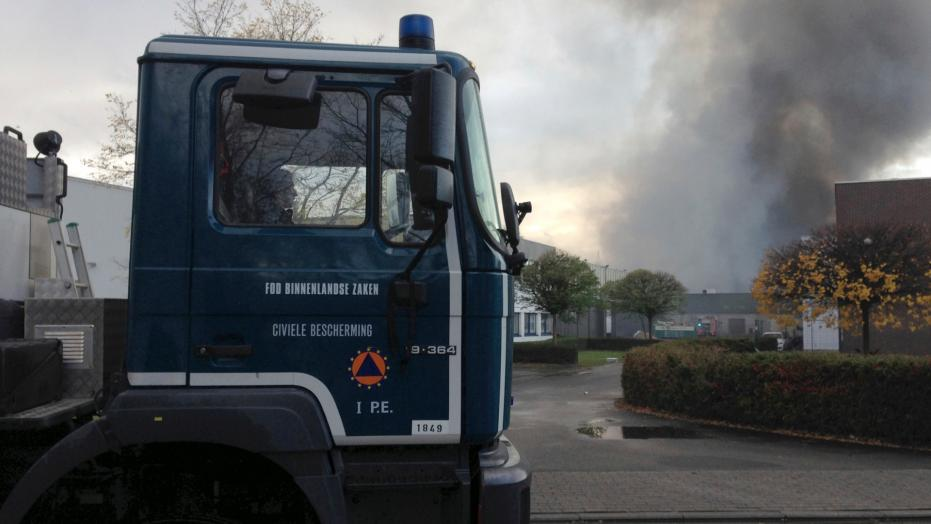smoke: (740, 0, 914, 157)
